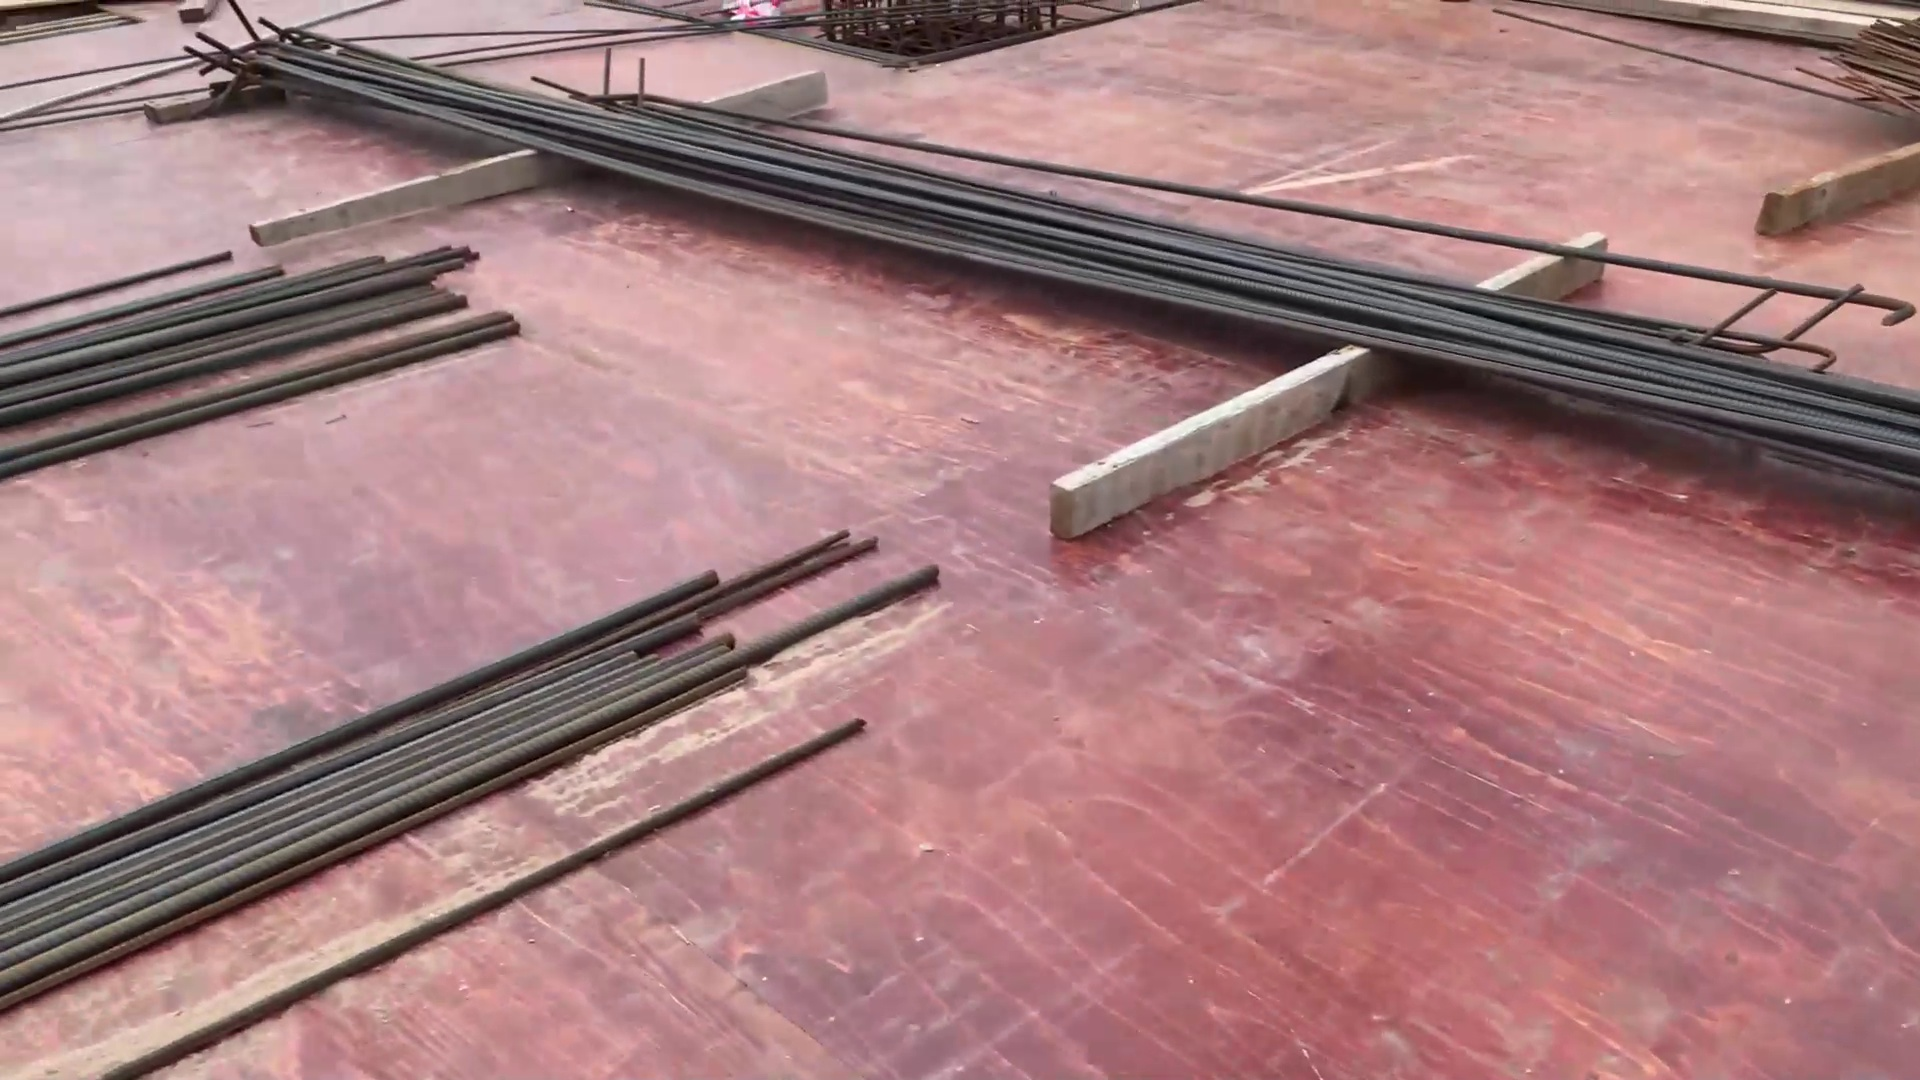rebar: (185, 30, 1909, 491), (4, 278, 559, 498)
